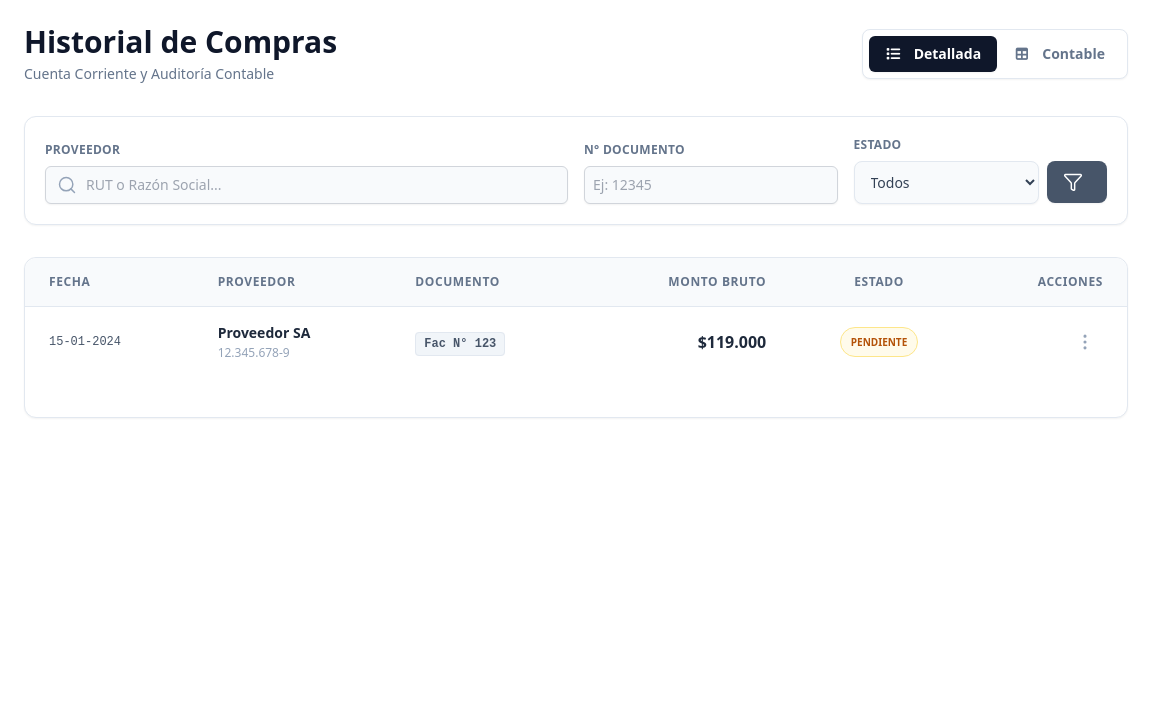
Scenario: HistorialFacturas (vista) › menú de opciones (3 puntos) › solo muestra Nota de Crédito/Débito para facturas tipo VENTA
Click the button titled "Opciones". click: (1085, 342)
box: [1067,324,1103,360]
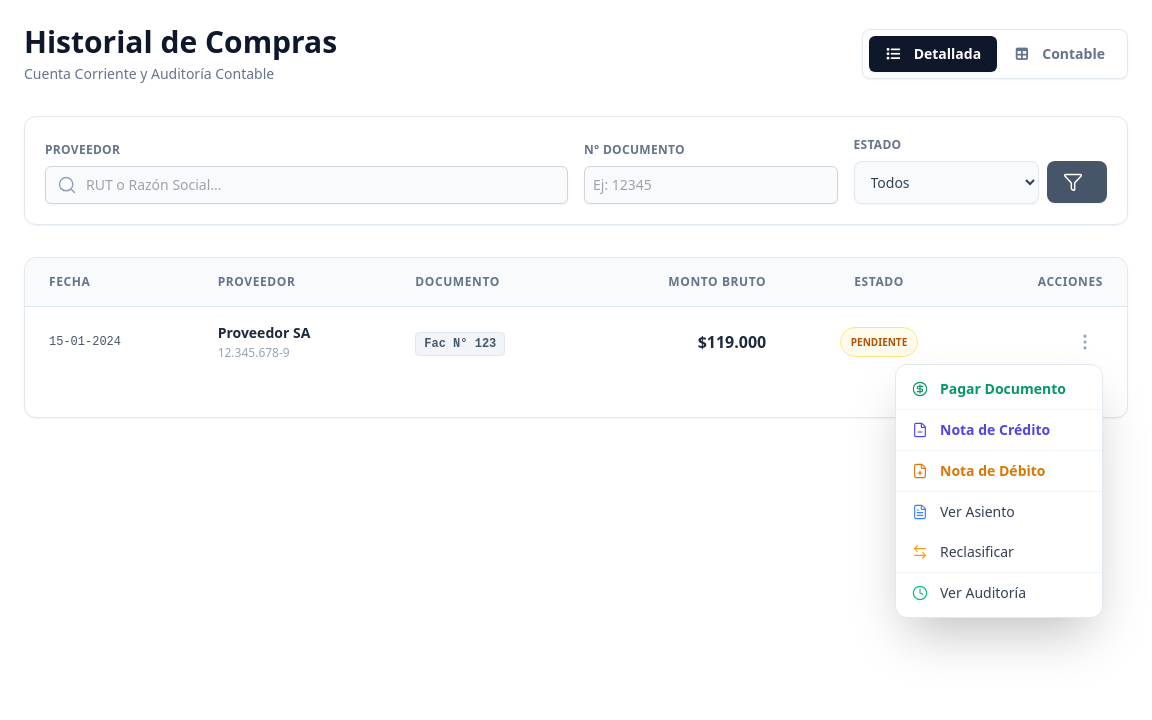
Expected: the button "Nota de Crédito" is shown, [896,410,1102,451]
Expected: the button "Nota de Débito" is shown, [896,451,1102,492]
